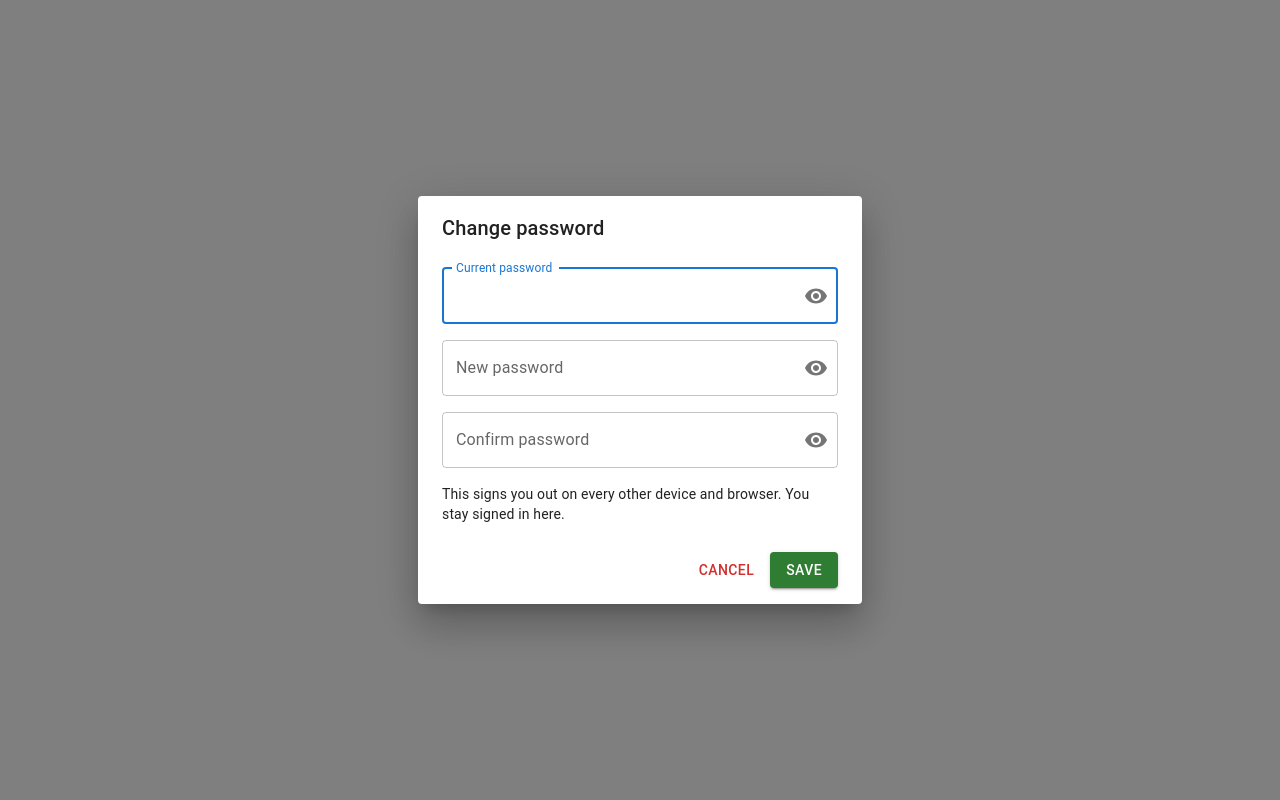
ChangePasswordDialog › asks for the new password, sending nothing
In the password field labelled "Current password": (615, 296) [442,268,788,324], type "old secret"
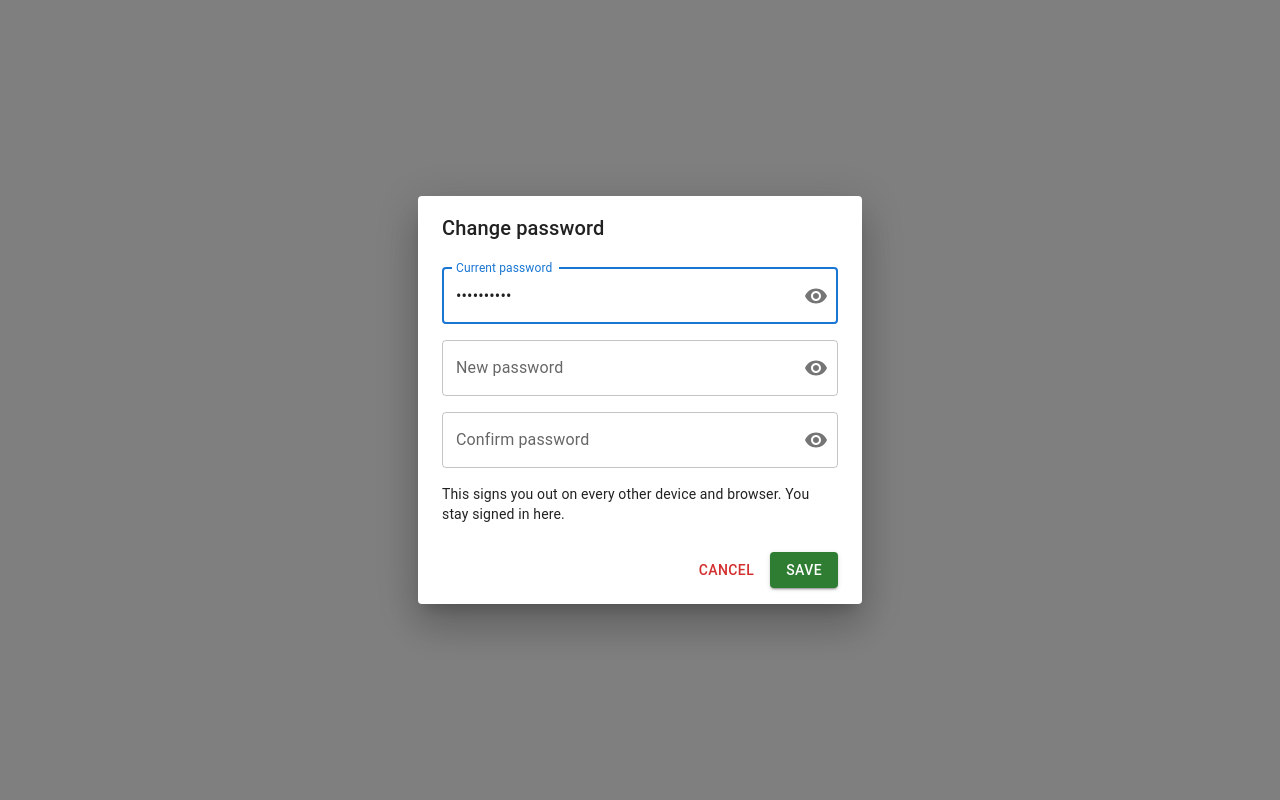
In the password field labelled "Confirm password": (615, 440) [442,412,788,468], type "new secret 1"
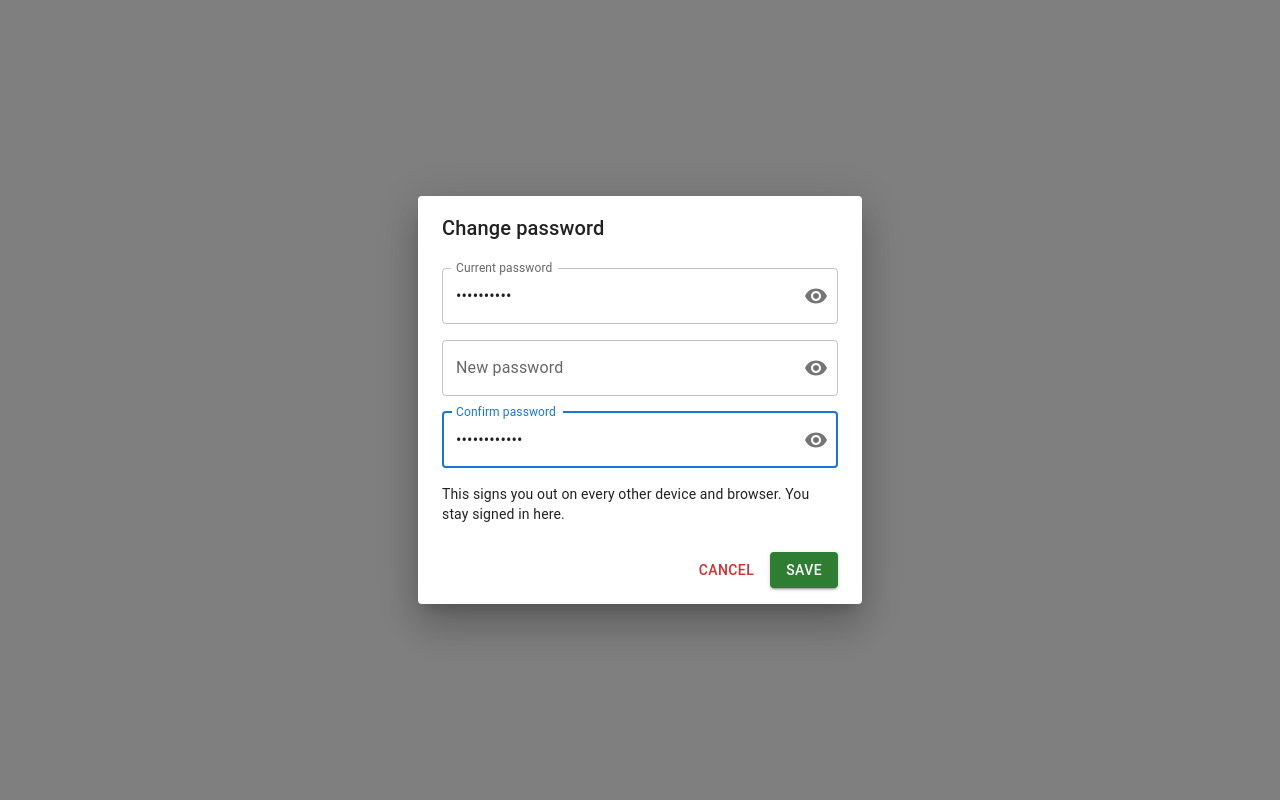
Click the button "Save": click(804, 570) [770,552,838,588]
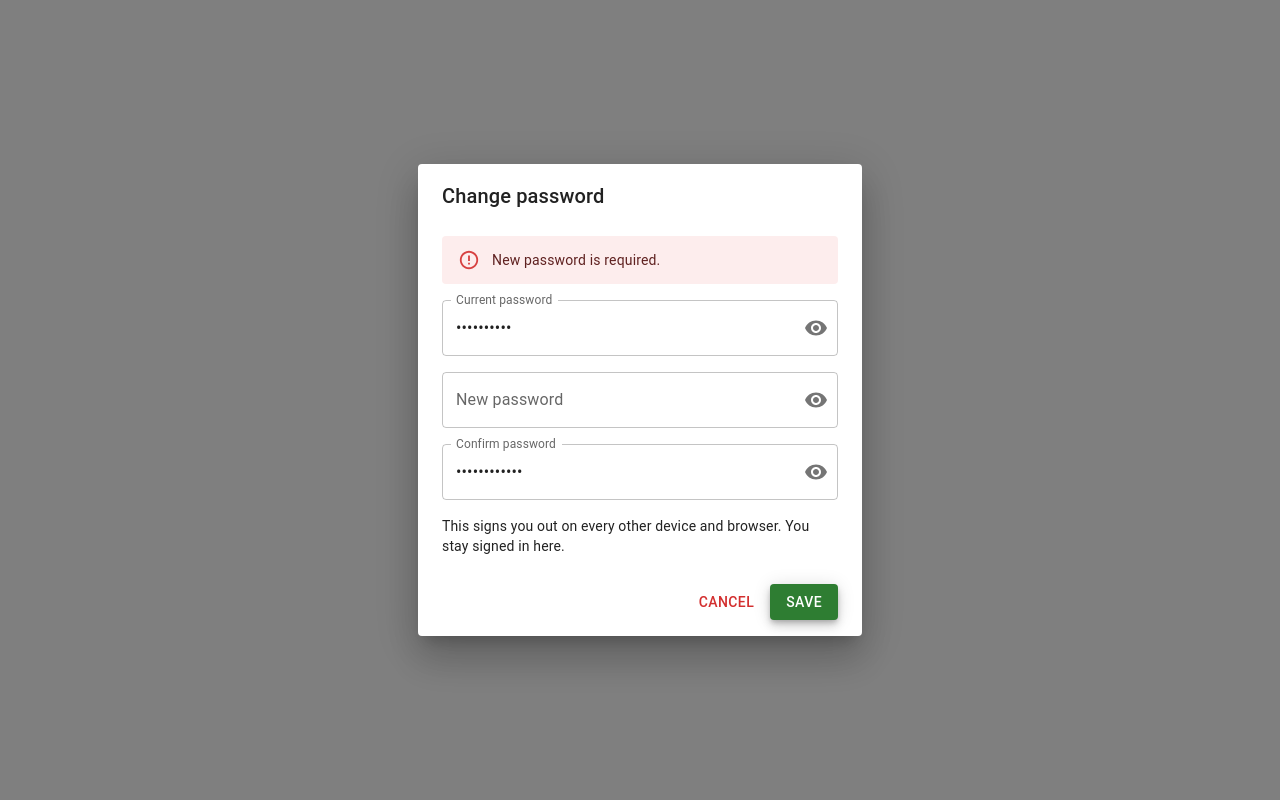
Result: the message reads "New password is required." at [492,252,660,268]
